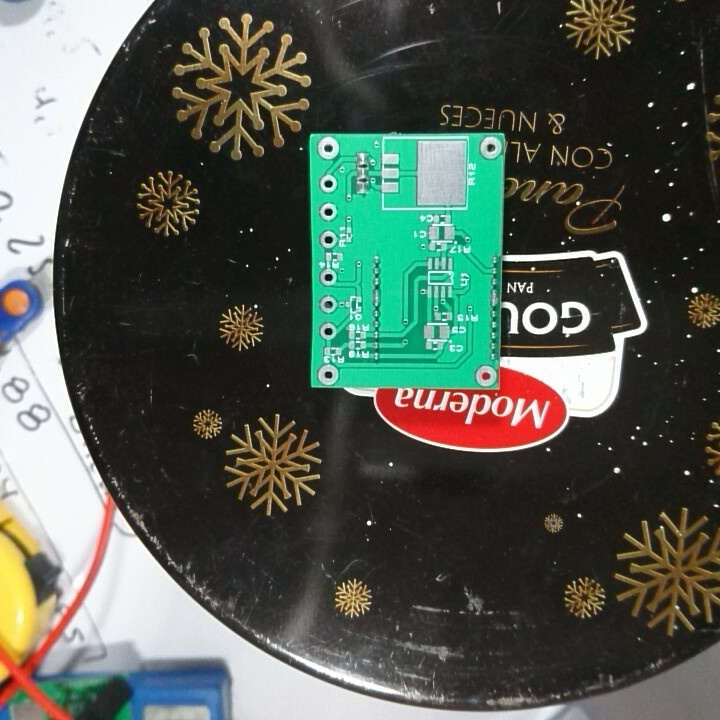F: (476, 136, 503, 161), (315, 362, 343, 386), (315, 136, 341, 161), (471, 363, 497, 386), (316, 200, 341, 223), (317, 290, 338, 316), (317, 174, 340, 195), (316, 266, 339, 287), (318, 228, 340, 249), (319, 320, 338, 343)
P: (369, 285, 386, 310), (487, 286, 503, 309)
